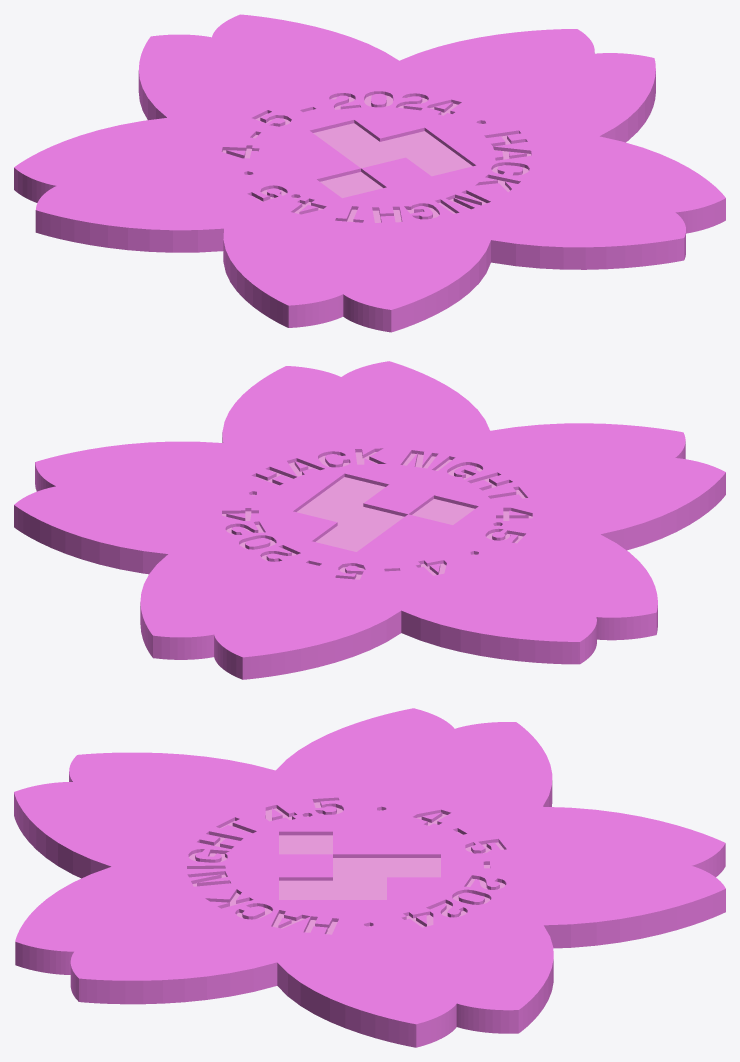
Rendered from badge4.5-flat.glb.
3 renders of one model, top to bottom at view 1: azimuth 30°, elevation 25°; view 2: azimuth 150°, elevation 25°; view 3: azimuth 270°, elevation 25°, orthographic. The views are drawn at different scales.
Parts seen in each view (by area): view 1: Curve.002; view 2: Curve.002; view 3: Curve.002.
Boxes of the visible parts, <box> form: Curve.002: <box>14,14,725,332</box>; Curve.002: <box>14,361,725,679</box>; Curve.002: <box>14,708,725,1047</box>.
Bounding box in the file's own units: 3.66 × 0.1268 × 3.48.
